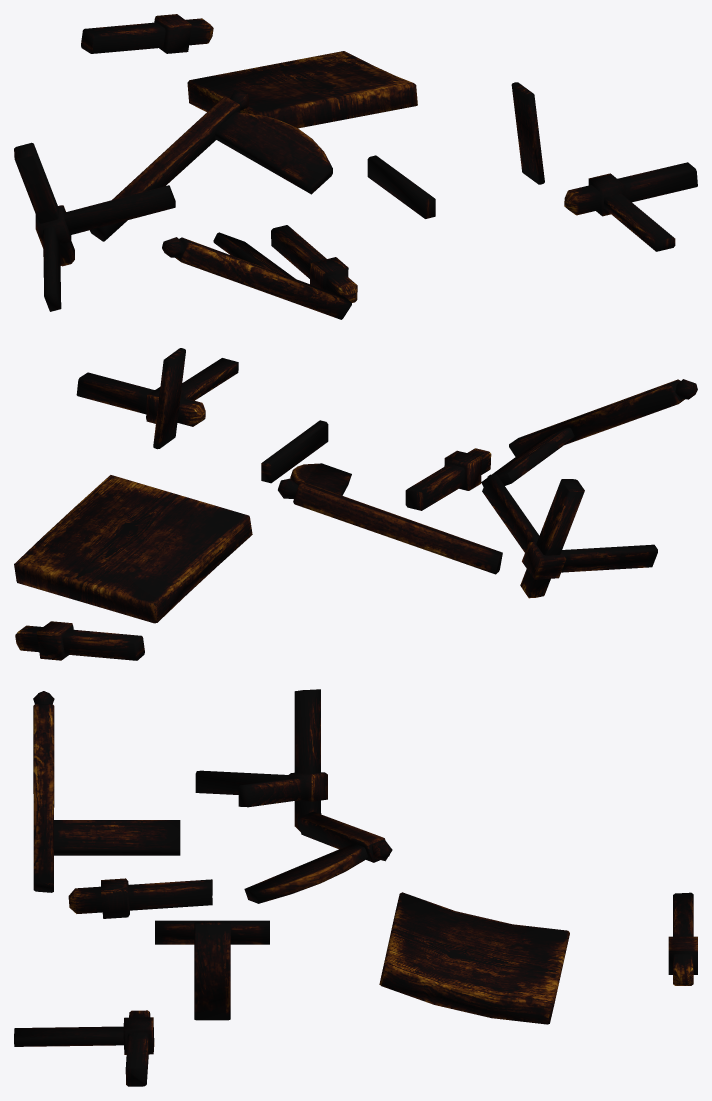
The model's file is chair_wood02_worn_broken.dae.
The picture shows the model from 3 angles, top to bottom: view 1: azimuth 30°, elevation 25°; view 2: azimuth 150°, elevation 25°; view 3: azimuth 270°, elevation 25°; orthographic projection.
Parts seen in each view (by area): view 1: chair_wood02_007, chair_wood02_015, chair_wood02_011, chair_wood02_017, chair_wood02_009, chair_wood02_001, chair_wood02_004, chair_wood02_016, chair_wood02_010; view 2: chair_wood02_007, chair_wood02_011, chair_wood02_015, chair_wood02_017, chair_wood02_009, chair_wood02_001, chair_wood02_004, chair_wood02_016, chair_wood02_010; view 3: chair_wood02_007, chair_wood02_017, chair_wood02_011, chair_wood02_015, chair_wood02_009, chair_wood02_004, chair_wood02_016, chair_wood02_001, chair_wood02_010.
Part boxes in pixels (<box>): chair_wood02_007: <box>187,51,417,128</box>; chair_wood02_015: <box>90,90,332,241</box>; chair_wood02_011: <box>14,142,175,311</box>; chair_wood02_017: <box>162,232,351,319</box>; chair_wood02_009: <box>564,162,697,251</box>; chair_wood02_001: <box>81,14,213,53</box>; chair_wood02_004: <box>271,225,357,302</box>; chair_wood02_016: <box>511,82,544,184</box>; chair_wood02_010: <box>367,155,435,218</box>; chair_wood02_007: <box>14,475,252,623</box>; chair_wood02_011: <box>482,474,657,598</box>; chair_wood02_015: <box>278,463,502,574</box>; chair_wood02_017: <box>481,379,697,486</box>; chair_wood02_009: <box>76,358,238,426</box>; chair_wood02_001: <box>15,621,144,660</box>; chair_wood02_004: <box>405,448,491,510</box>; chair_wood02_016: <box>153,348,185,449</box>; chair_wood02_010: <box>261,420,328,483</box>; chair_wood02_007: <box>379,892,569,1024</box>; chair_wood02_017: <box>33,691,180,892</box>; chair_wood02_011: <box>195,689,327,831</box>; chair_wood02_015: <box>244,811,392,903</box>; chair_wood02_009: <box>14,1010,154,1086</box>; chair_wood02_004: <box>68,878,212,918</box>; chair_wood02_016: <box>194,922,230,1020</box>; chair_wood02_001: <box>668,892,697,985</box>; chair_wood02_010: <box>155,920,269,944</box>.
Size of the model in its own units: 2.55 by 2.45 by 0.5121.
1 material, 1 textured.
